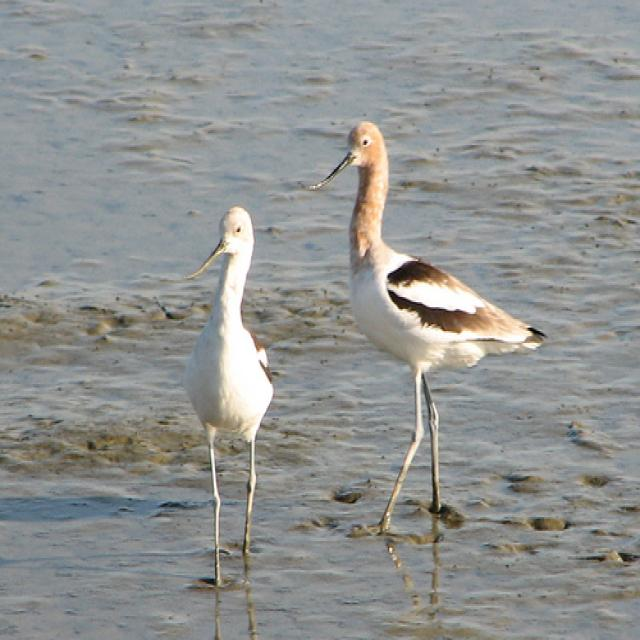bird: (303, 121, 549, 541), (183, 206, 277, 588)
